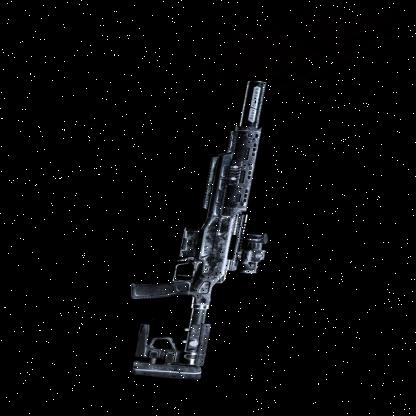rifle: (104, 71, 320, 386)
